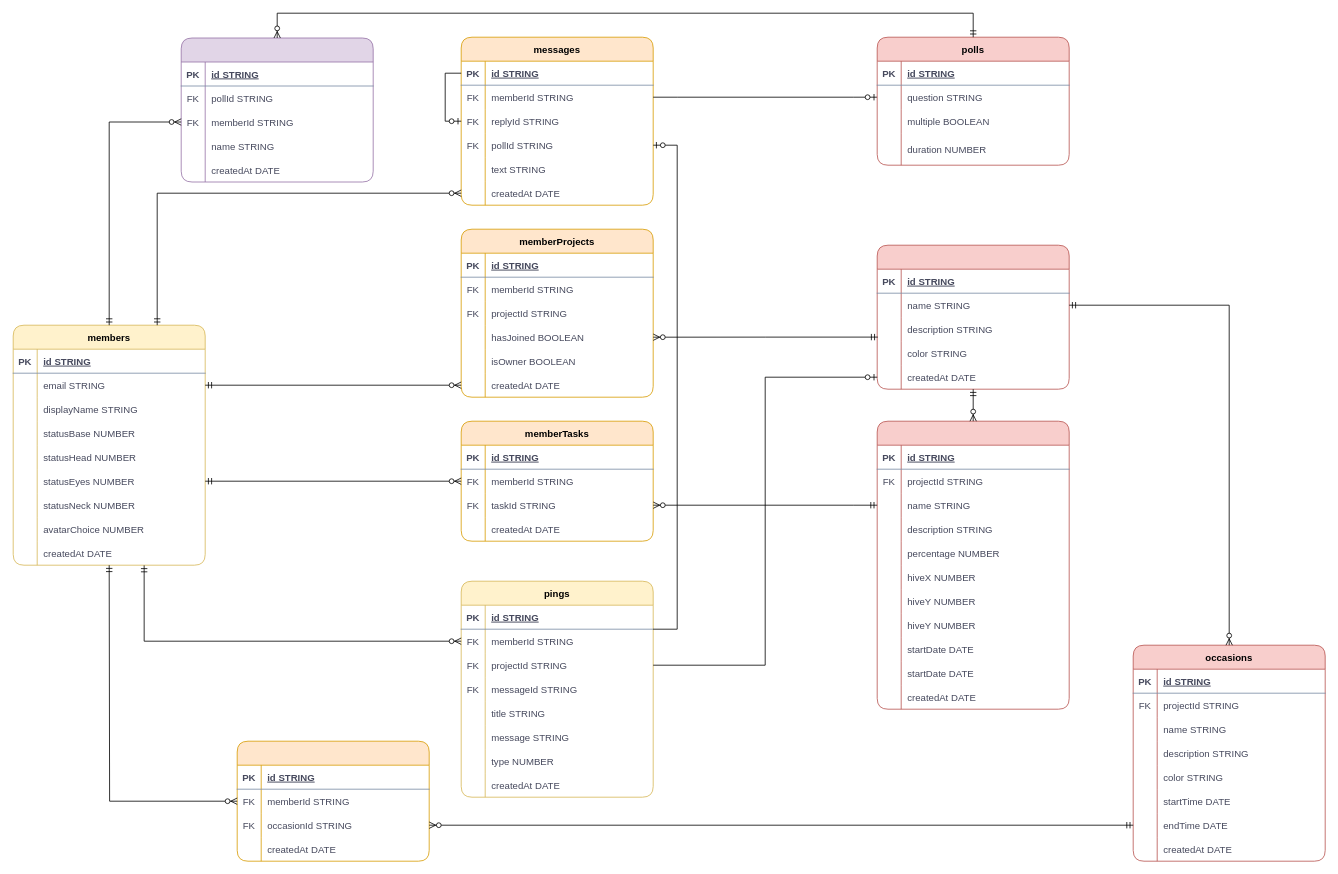
Image size: 1338x874. Some labels were removed from this diagram. The shapes that lost their labels are listed below. From the top down, each one's box as (x1, y1, x2, y2) in pixels, then its label:
(180, 37, 373, 182): pollOptions
(876, 244, 1069, 389): projects
(876, 420, 1069, 709): tasks
(236, 740, 429, 861): memberOccasions
